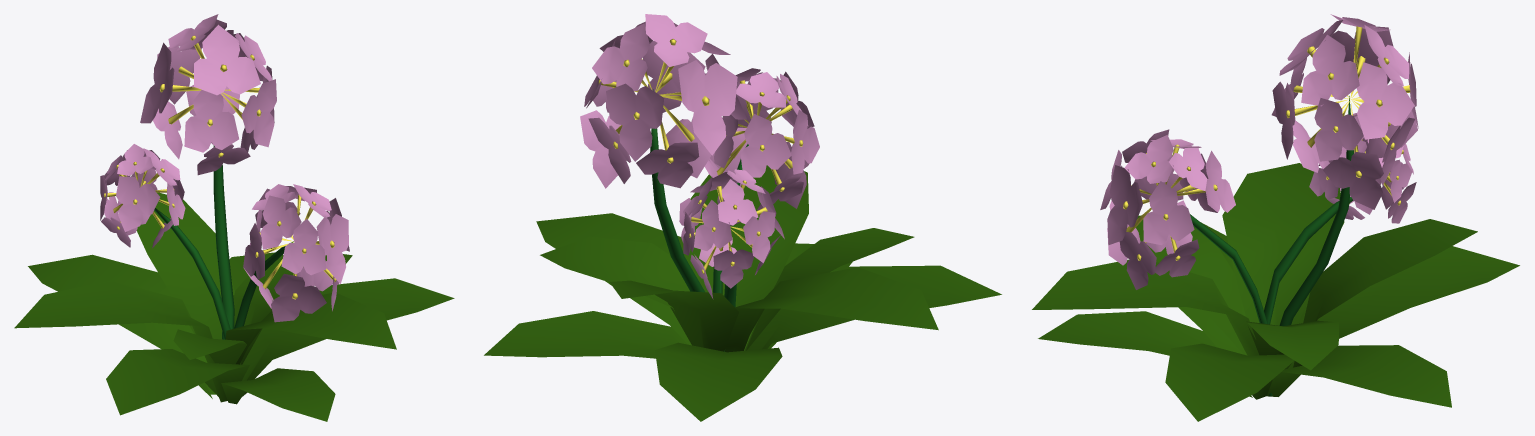
The model's file is fleur 5.fbx.
3 views of the same model, side by side, from view 1: azimuth 30°, elevation 25°; view 2: azimuth 150°, elevation 25°; view 3: azimuth 270°, elevation 25° (orthographic). The views are drawn at different scales.
Visible parts, largest first — view 1: Flower.028; view 2: Flower.028; view 3: Flower.028.
Boxes of the visible parts, x1,y1,x2,y2 form: Flower.028: (14,14,454,421); Flower.028: (484,14,1001,421); Flower.028: (1032,14,1519,421).
Size of the model in its own units: 0.558 by 0.4657 by 0.524.
